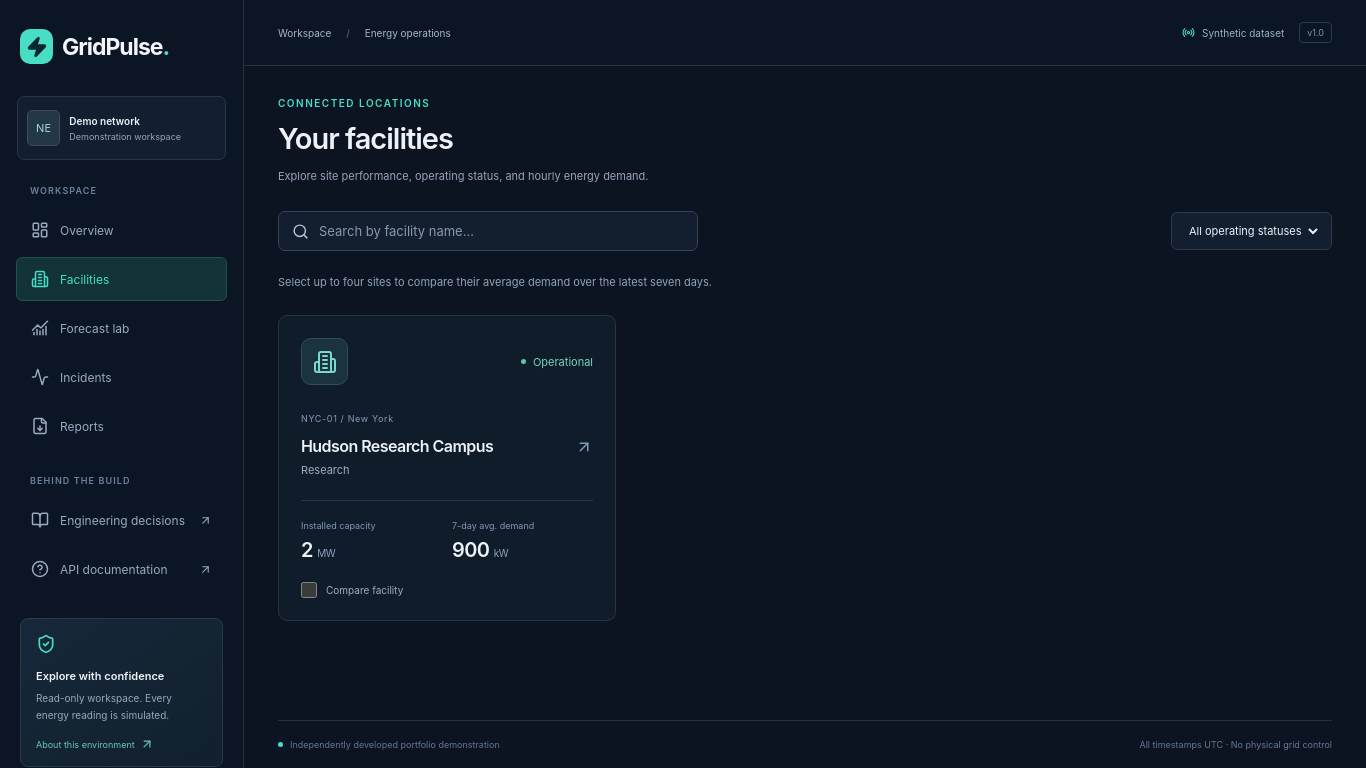
Operations interface with mocked API transport › filters inventory and explains an empty result
The image size is (1366, 768).
expect the heading "Hudson Research Campus" is shown: met, box [301, 434, 593, 458]
Type "missing" into the field named "Search facilities".
click(502, 232); type("missing")  # box [319, 212, 684, 250]
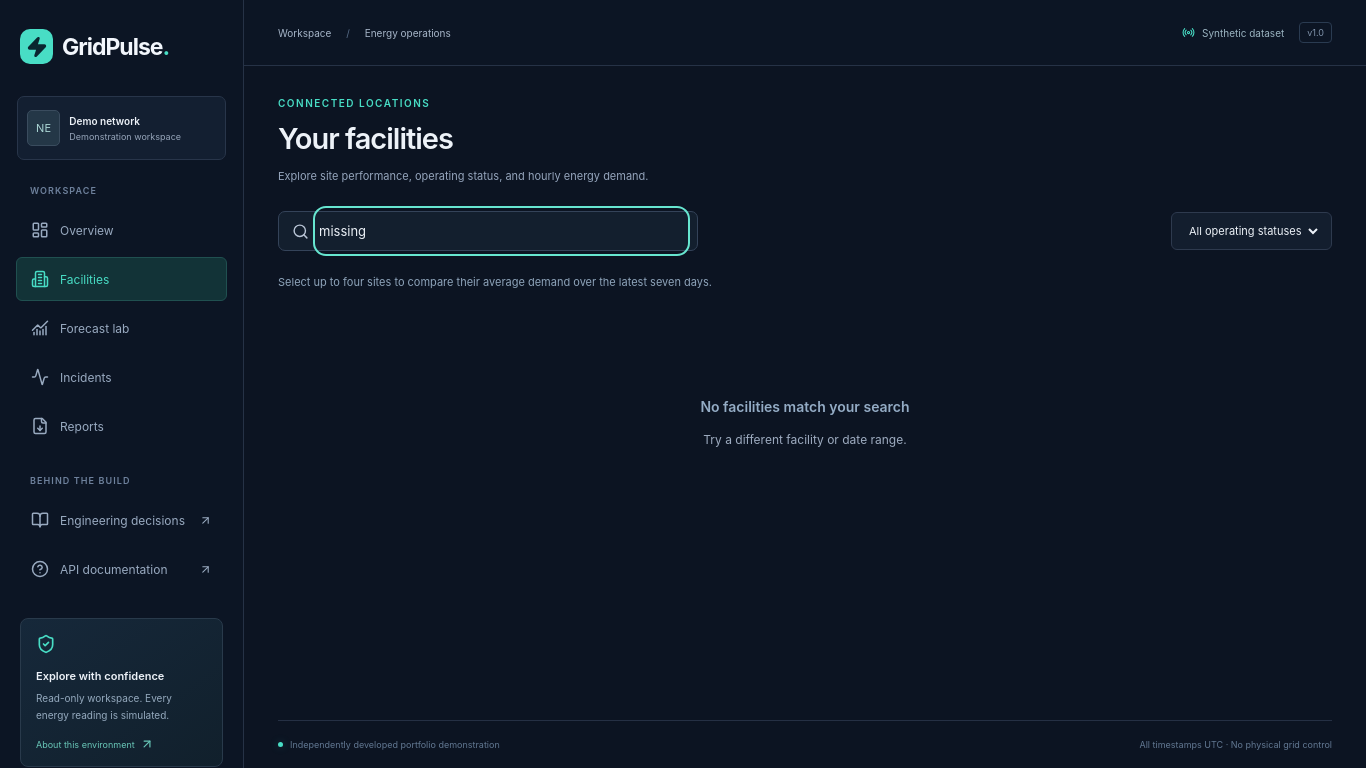
expect the text "No facilities match your search" is shown: met, box [700, 398, 910, 415]
